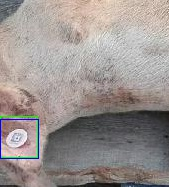text: (0, 116, 37, 157)
